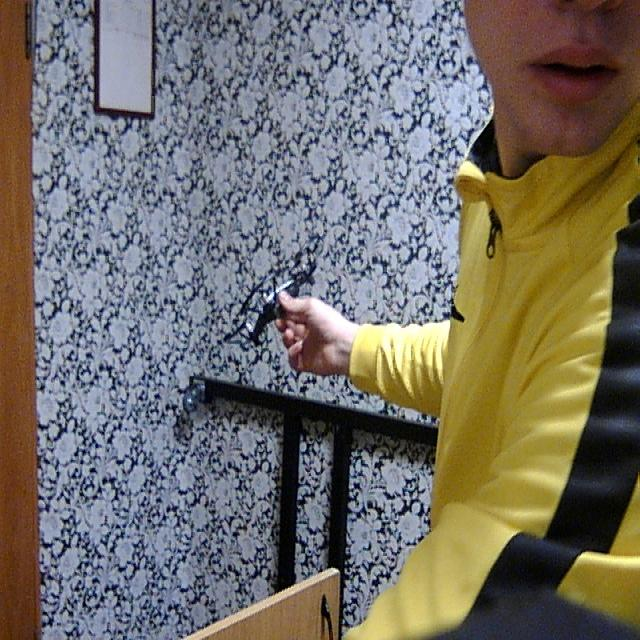drone: (210, 235, 335, 347)
